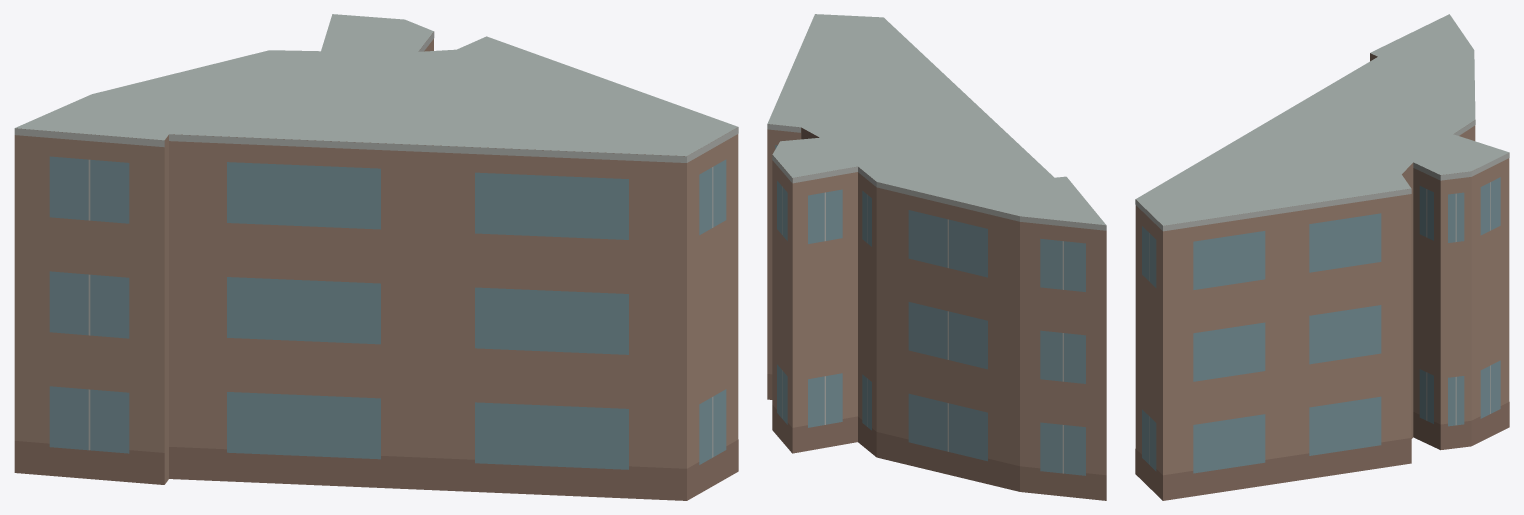
Rendered from survey-upis-32801136.glb.
The picture shows the model from 3 angles, left to right: view 1: azimuth 30°, elevation 25°; view 2: azimuth 150°, elevation 25°; view 3: azimuth 270°, elevation 25°; orthographic projection. The views are drawn at different scales.
Parts seen in each view (by area): view 1: survey-upis-32801136.tmp; view 2: survey-upis-32801136.tmp; view 3: survey-upis-32801136.tmp.
Part boxes in pixels (box(x1,y1,x2,y2)): survey-upis-32801136.tmp: box(14, 14, 738, 500); survey-upis-32801136.tmp: box(767, 14, 1106, 500); survey-upis-32801136.tmp: box(1135, 14, 1509, 500).
Bounding box in the file's own units: 20.17 × 12.2 × 15.04.
